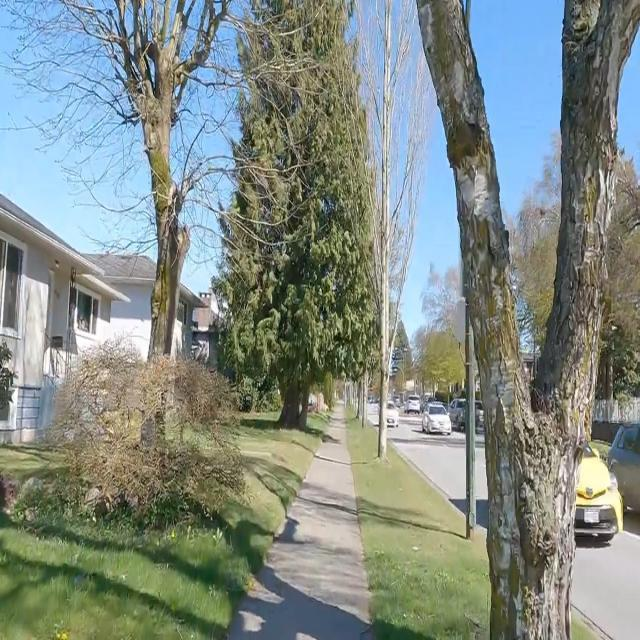Automobile: (575, 444, 623, 542), (608, 423, 639, 512), (422, 403, 451, 435), (449, 399, 464, 431), (385, 401, 399, 429)
Road: (573, 531, 639, 639), (395, 429, 463, 515), (476, 448, 486, 534)
Sidewalk: (229, 413, 372, 639)
